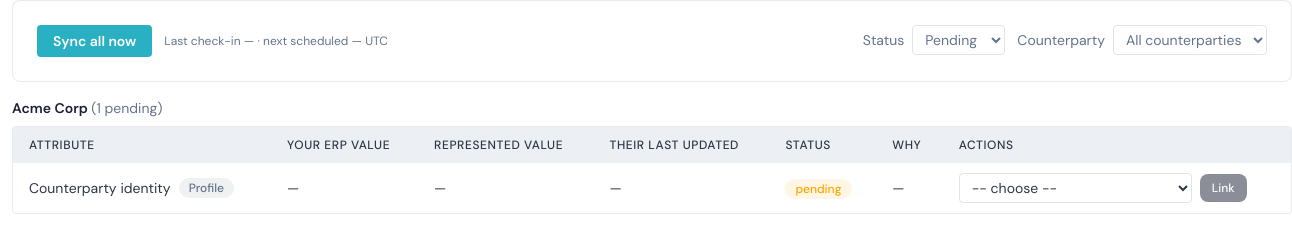
CounterpartyUpdatesTab › an identity row's Link POSTs { link: 7 } for the selected candidate
Select "Acme West · V-007 · Reno, NV" in the 3rd dropdown at (1075, 188), box x1=959 y1=173 x2=1192 y2=203
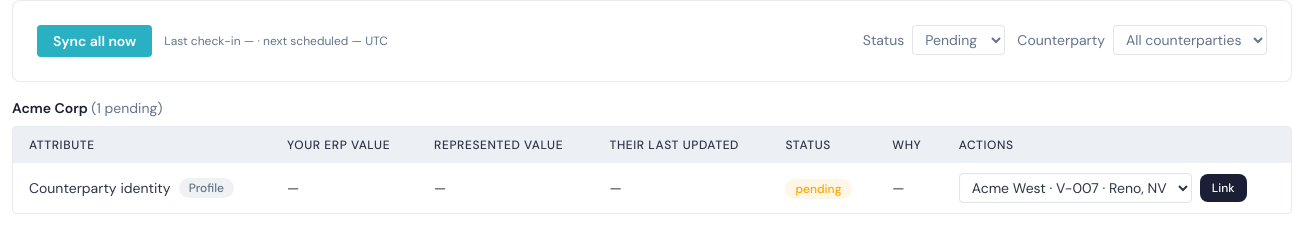
Click the button "Link" at (1223, 188), box x1=1200 y1=174 x2=1246 y2=202
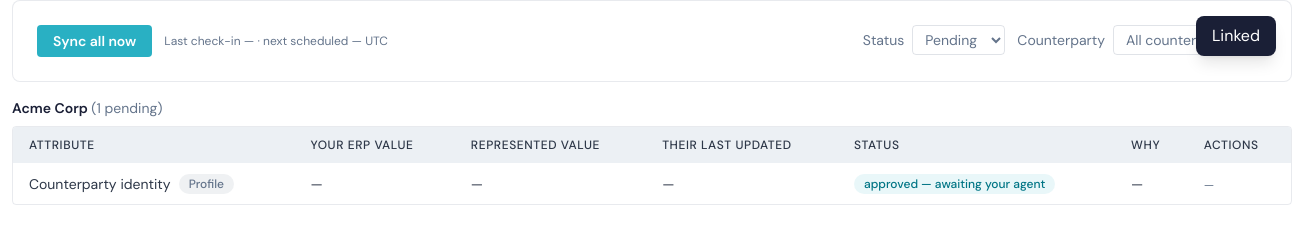
Check: the text "approved — awaiting your agent" is shown, box x1=854 y1=174 x2=1055 y2=194
